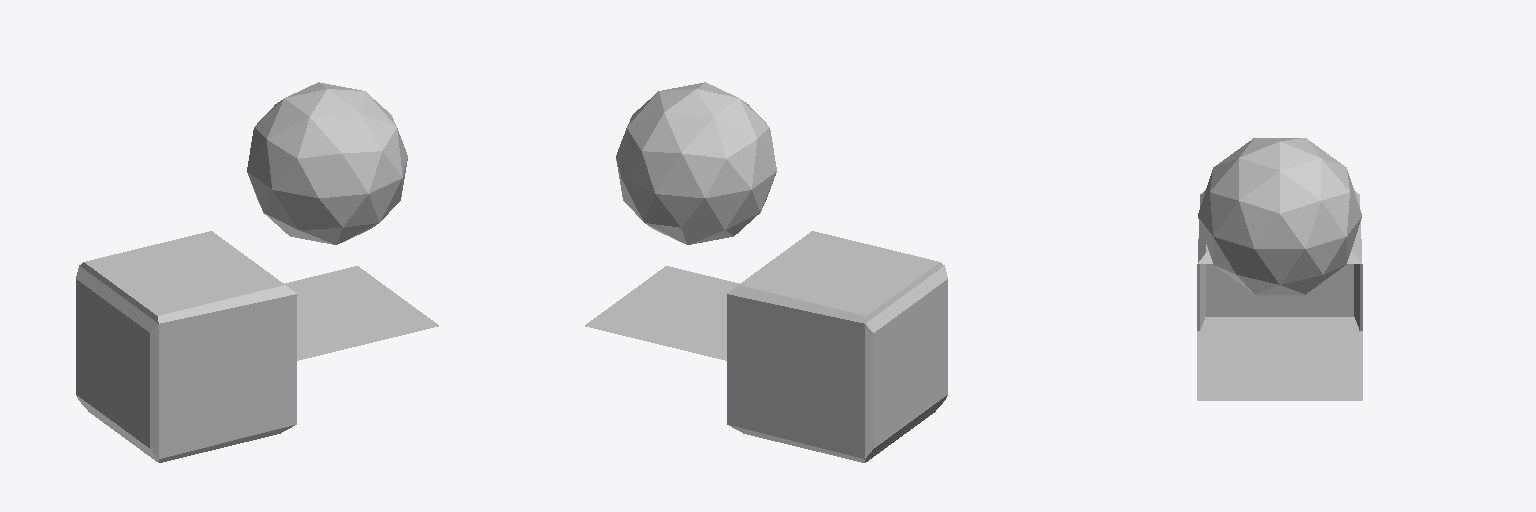
3 renders of one model, left to right at view 1: azimuth 30°, elevation 25°; view 2: azimuth 150°, elevation 25°; view 3: azimuth 270°, elevation 25°, orthographic.
Parts seen in each view (by area): view 1: head, leftHand, spine; view 2: head, leftHand, spine; view 3: leftHand, spine, head.
Boxes of the visible parts, x1,y1,x2,y2 form: head: [76, 231, 296, 462]; leftHand: [247, 82, 407, 244]; spine: [285, 266, 438, 360]; head: [727, 231, 947, 462]; leftHand: [616, 82, 776, 244]; spine: [585, 266, 738, 360]; leftHand: [1198, 138, 1361, 294]; spine: [1197, 331, 1362, 400]; head: [1197, 190, 1362, 330].
Size of the model in its own units: 2 by 2 by 1.